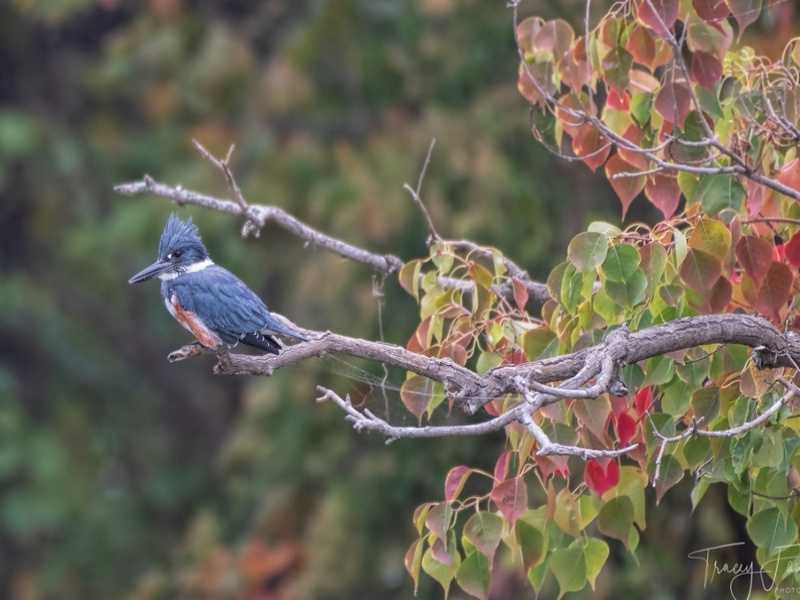kingfisher: (121, 207, 309, 372)
